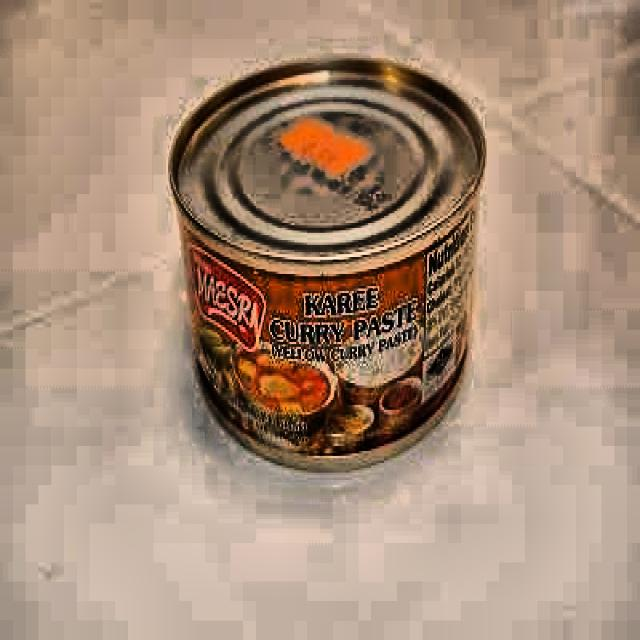Cans: (146, 36, 524, 501)
